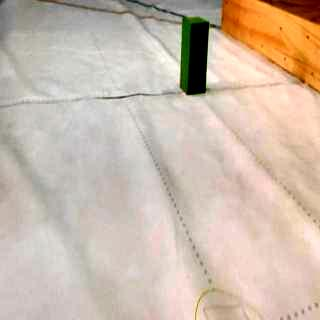greenbox: (179, 16, 210, 94)
